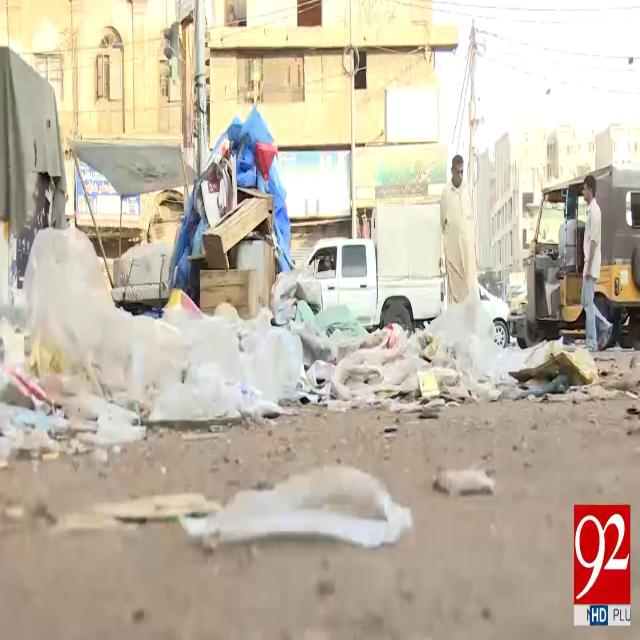high trash: (0, 113, 596, 466)
less trash: (65, 467, 412, 549), (432, 469, 494, 494)
